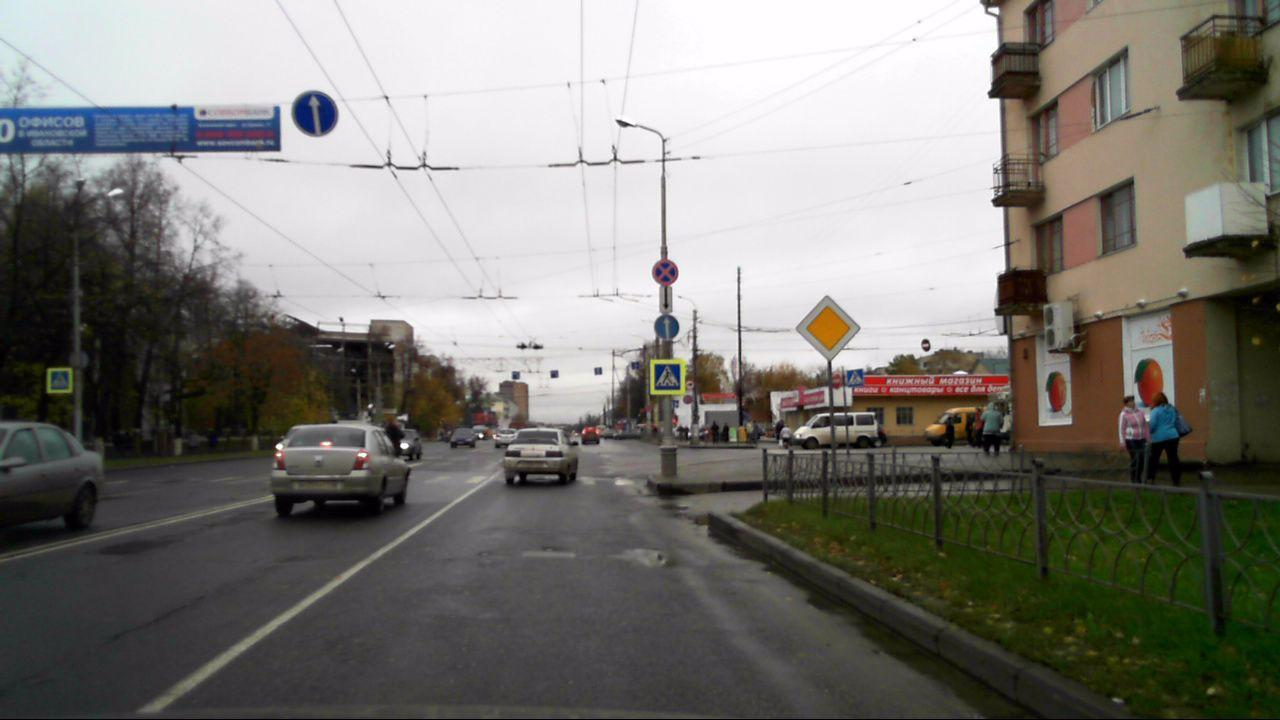road_sign: (795, 292, 864, 366), (648, 356, 686, 397), (45, 366, 74, 395), (652, 315, 680, 342), (651, 259, 679, 285), (846, 367, 865, 388), (659, 286, 672, 314)
